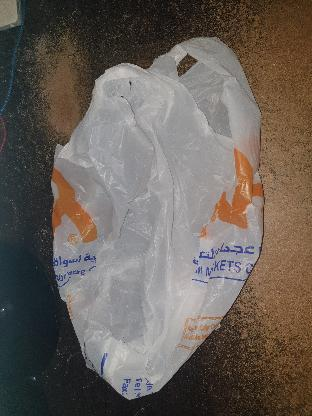Plastic Bag: (50, 37, 262, 402)
